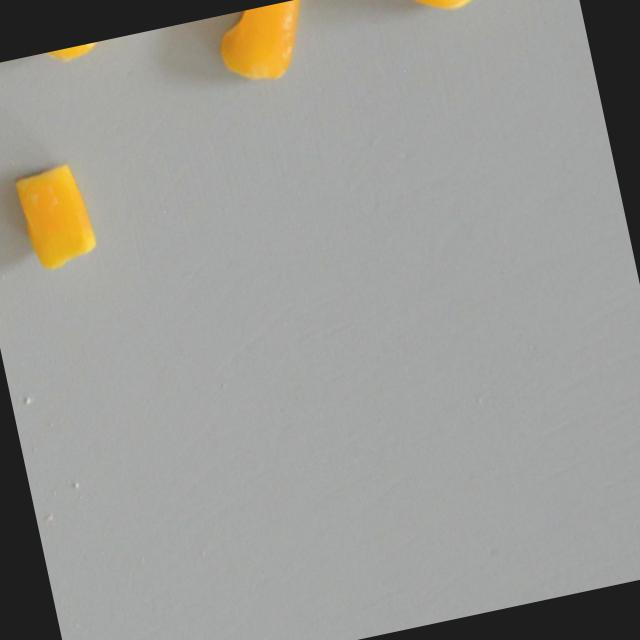estandar: (1, 152, 105, 284), (405, 0, 503, 21)
pelicula: (209, 0, 318, 92), (17, 35, 125, 69)
